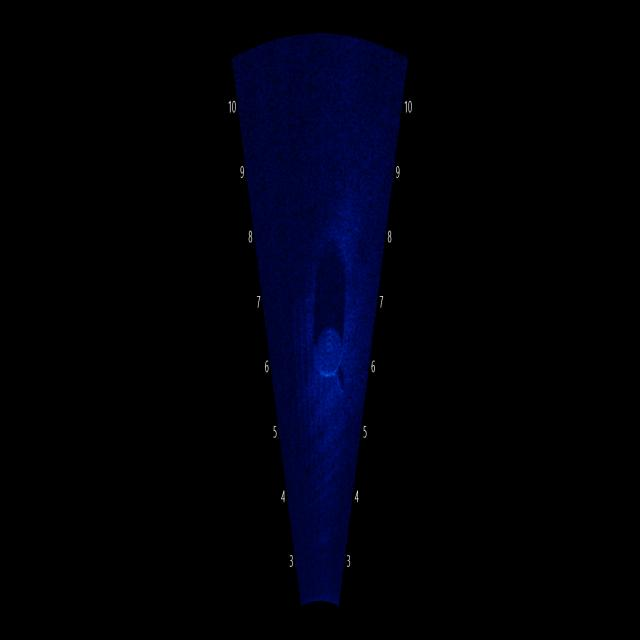circle: (300, 310, 354, 398)
